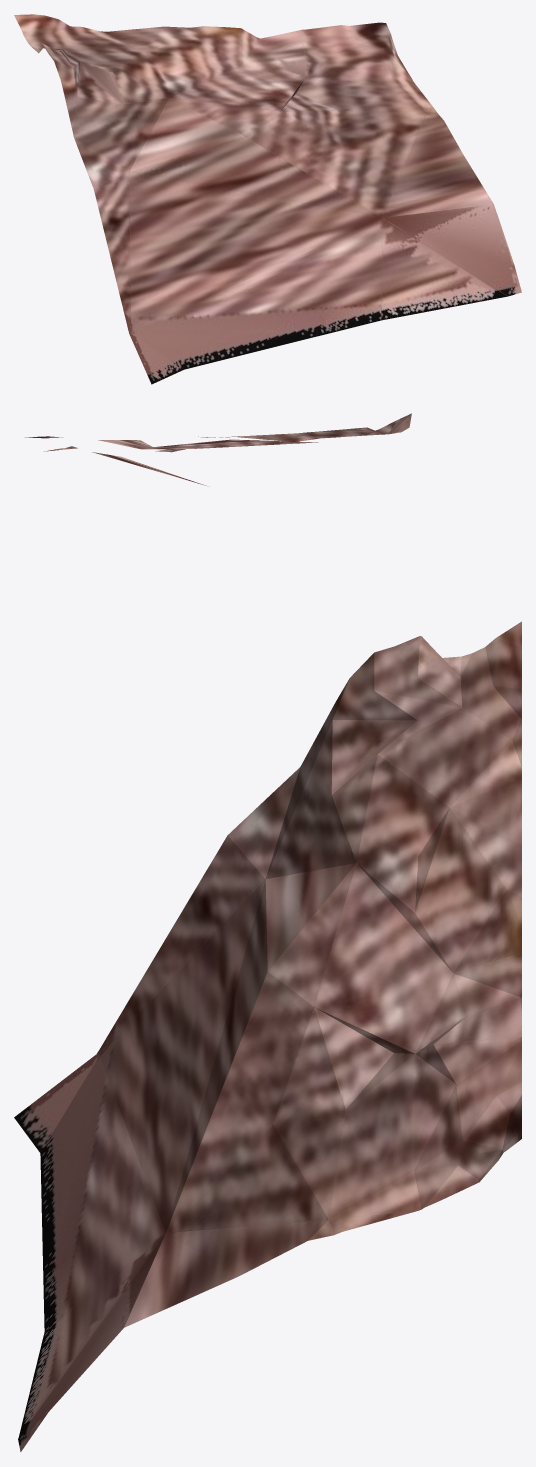
3 renders of one model, top to bottom at view 1: azimuth 30°, elevation 25°; view 2: azimuth 150°, elevation 25°; view 3: azimuth 270°, elevation 25°, orthographic. The views are drawn at different scales.
Bounding box in the file's own units: 1.67 × 1.16 × 1.07.
Materials: 2 (2 with a texture image).
